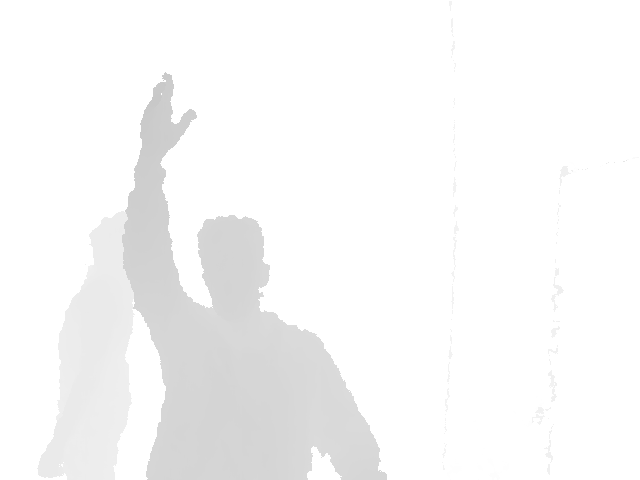hand: (140, 72, 197, 154)
head: (196, 213, 270, 315), (89, 204, 145, 272)
person: (121, 72, 388, 480), (36, 204, 136, 480)
